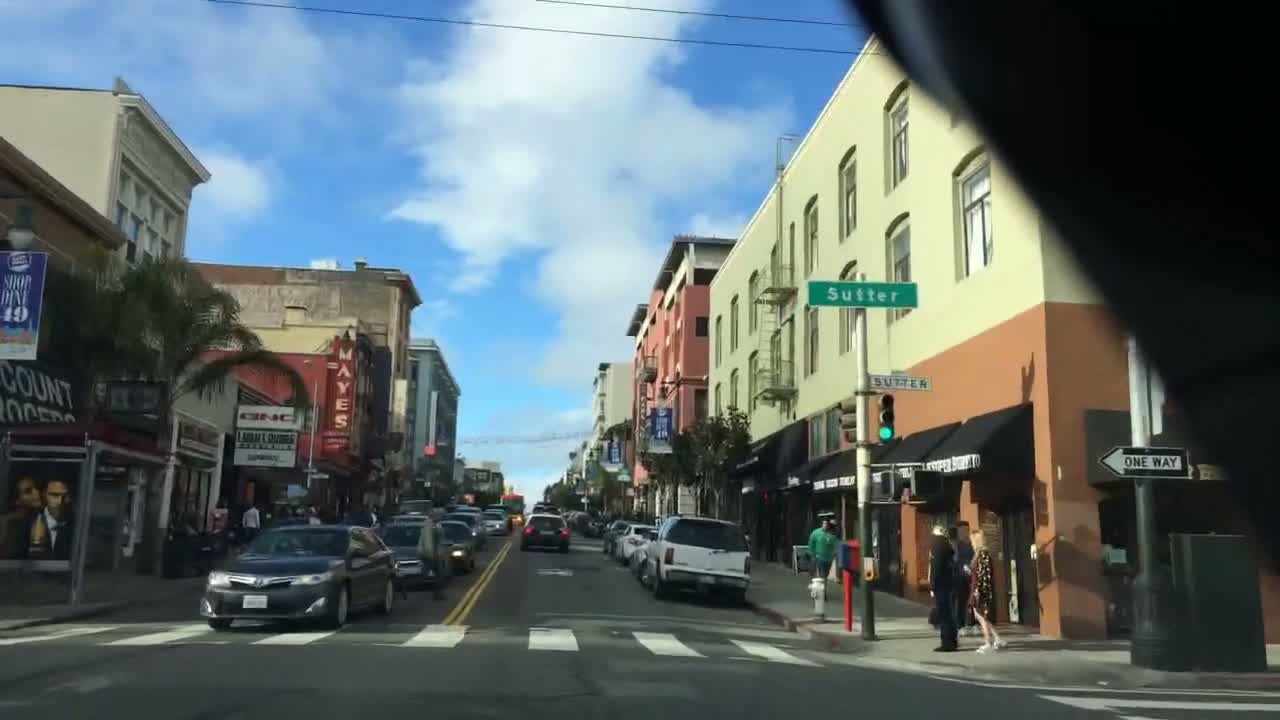car: (199, 522, 400, 631), (636, 514, 753, 604), (376, 521, 453, 588), (435, 519, 477, 574), (519, 512, 571, 553), (613, 523, 659, 565), (479, 511, 510, 536)
pedestrian: (967, 527, 1008, 654), (397, 506, 450, 601), (925, 522, 958, 651), (805, 517, 840, 602), (953, 519, 978, 638)
